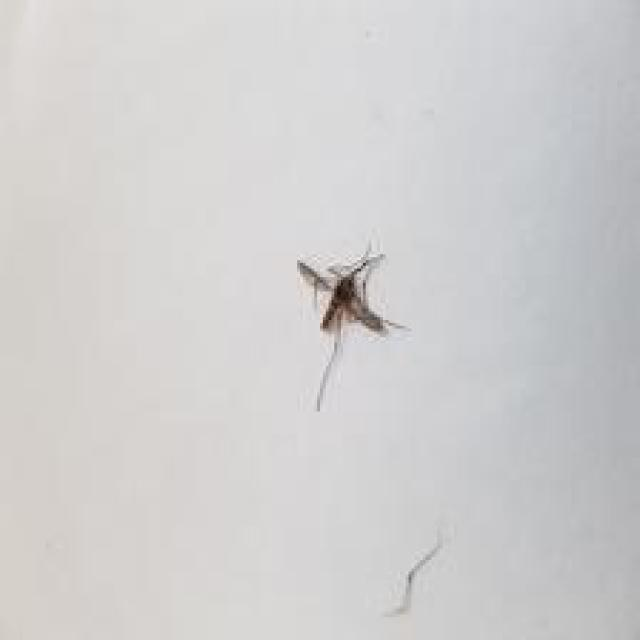Culex: (296, 240, 410, 411)
